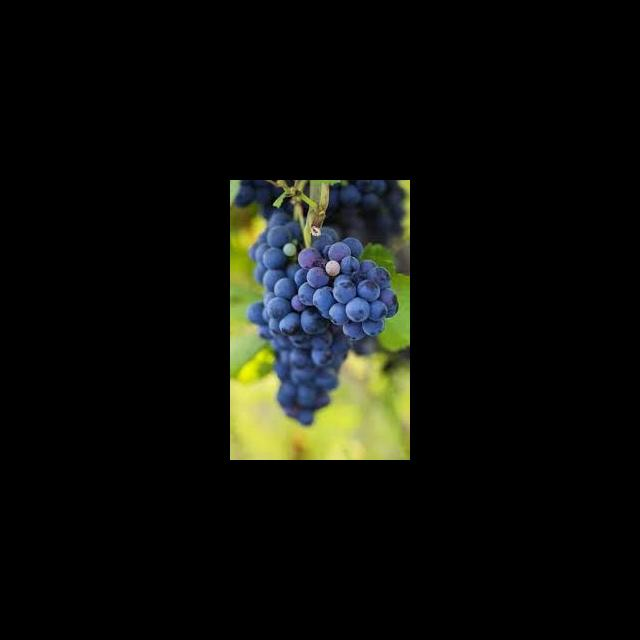grape: (262, 215, 400, 425)
